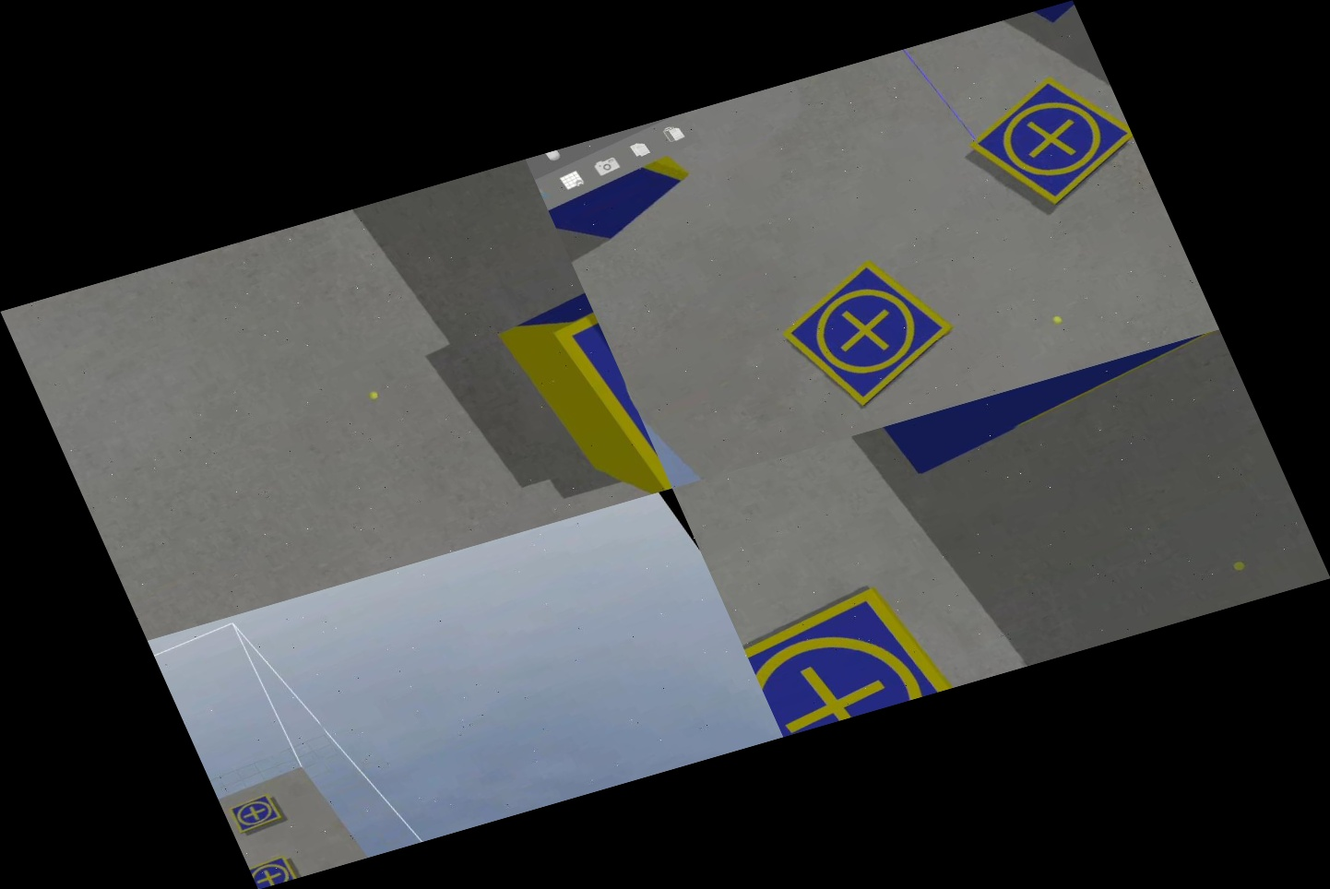large_base: (866, 329, 1241, 482)
small_base: (754, 239, 983, 424), (731, 568, 964, 736), (943, 58, 1153, 228), (220, 788, 289, 837), (246, 850, 302, 888)
